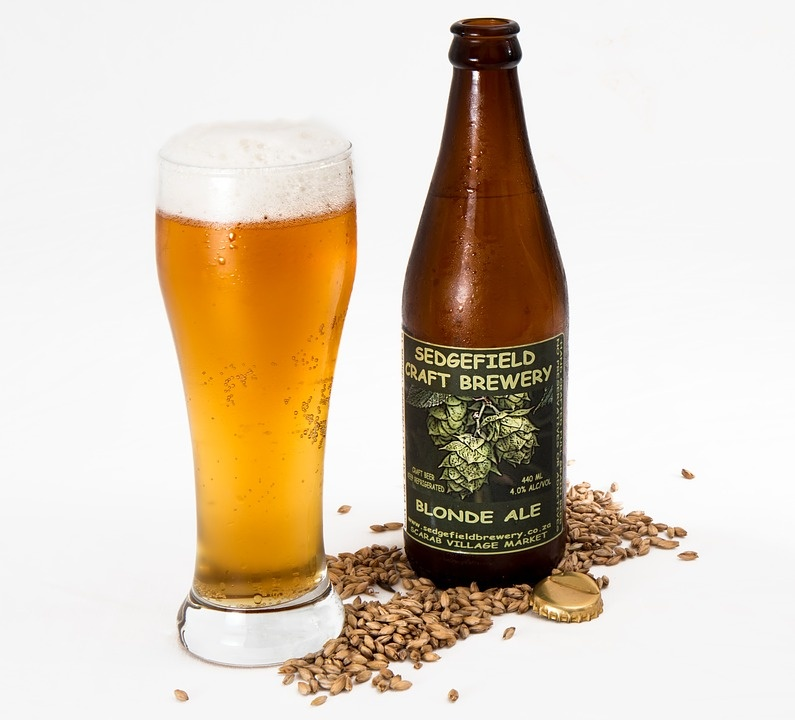beerBottle: (403, 39, 571, 585)
